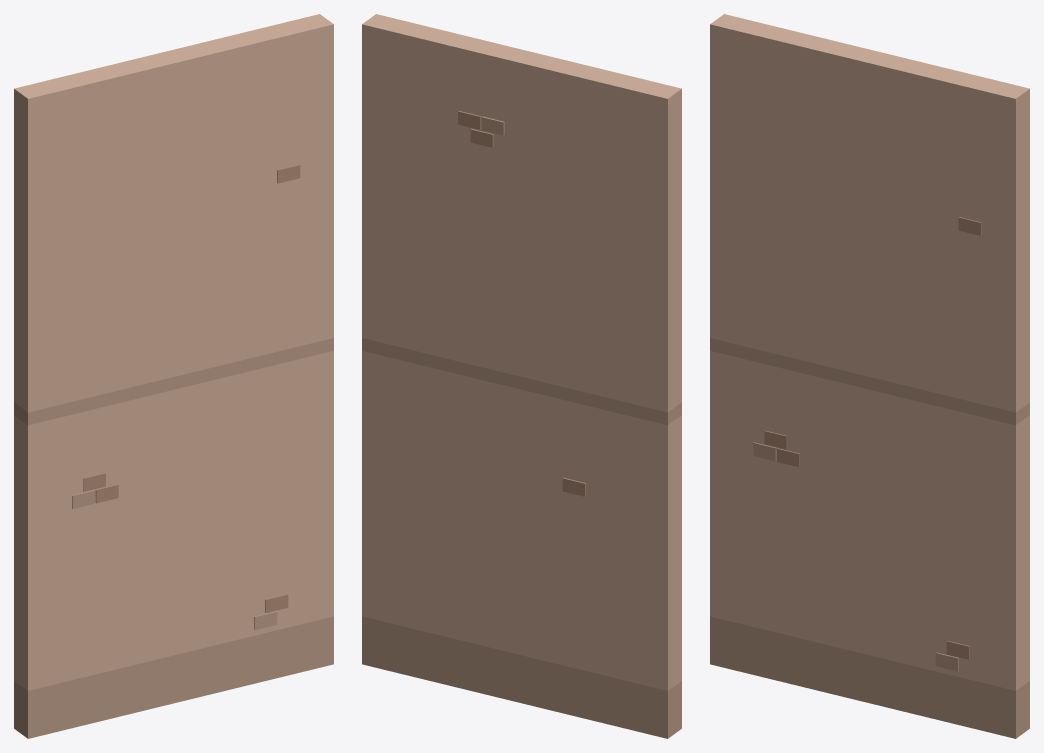
File: Wall_01.fbx
3 views of the same model, side by side, from view 1: azimuth 30°, elevation 25°; view 2: azimuth 150°, elevation 25°; view 3: azimuth 330°, elevation 25° (orthographic).
Parts seen in each view (by area): view 1: Wall_01; view 2: Wall_01; view 3: Wall_01.
Boxes of the visible parts, left/top/right/bottom form: Wall_01: left=14, top=14, right=333, bottom=738; Wall_01: left=362, top=14, right=681, bottom=738; Wall_01: left=710, top=14, right=1029, bottom=738.
Size of the model in its own units: 500 by 1000 by 44.49.
